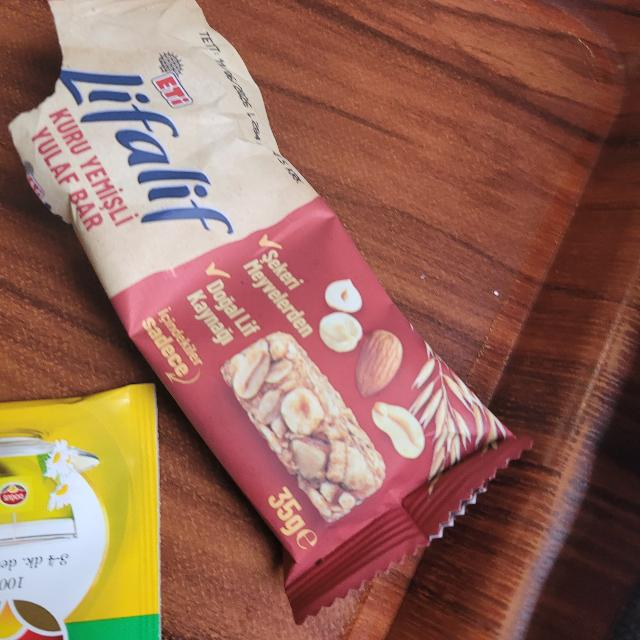Kagit: (0, 386, 164, 640)
Plastik: (11, 11, 519, 607)
